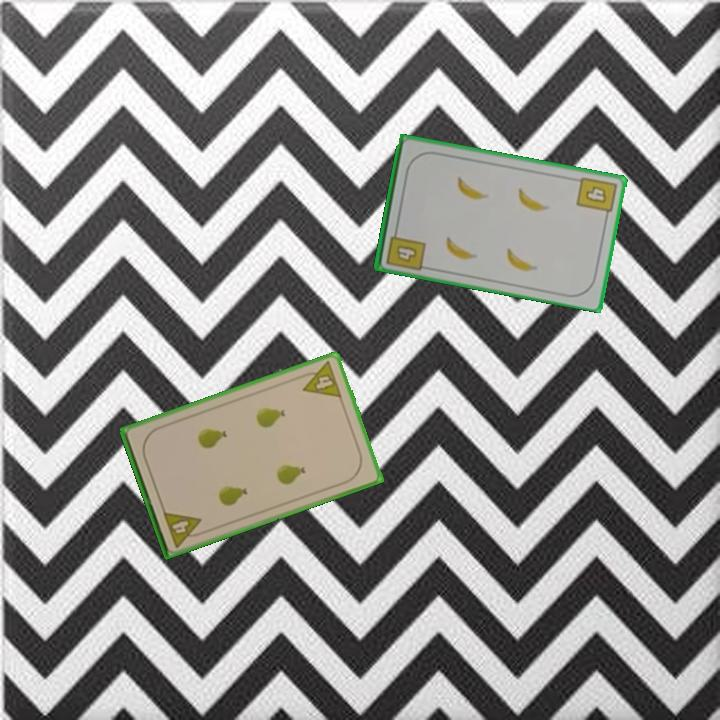4b: (382, 224, 428, 274), (573, 173, 619, 222)
4p: (295, 358, 345, 401), (159, 507, 208, 550)
